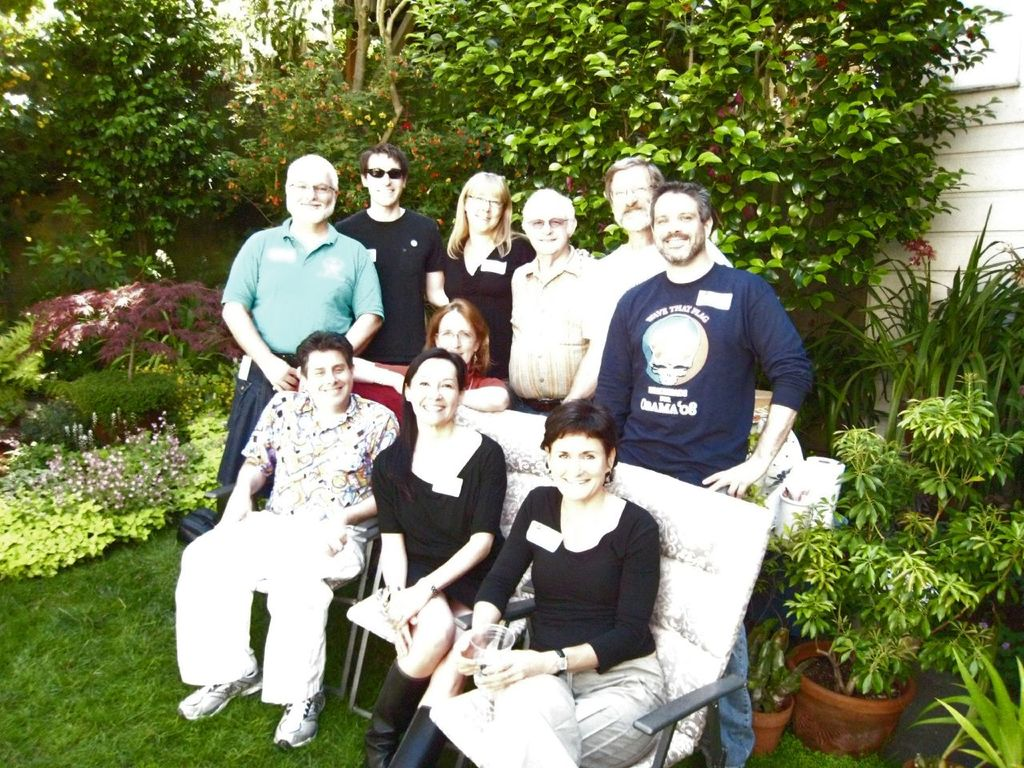Human_hand: (474, 648, 550, 690), (701, 462, 765, 502), (382, 579, 427, 631), (385, 614, 421, 658), (315, 514, 350, 558), (213, 494, 251, 528), (450, 642, 482, 680), (263, 358, 298, 392)
